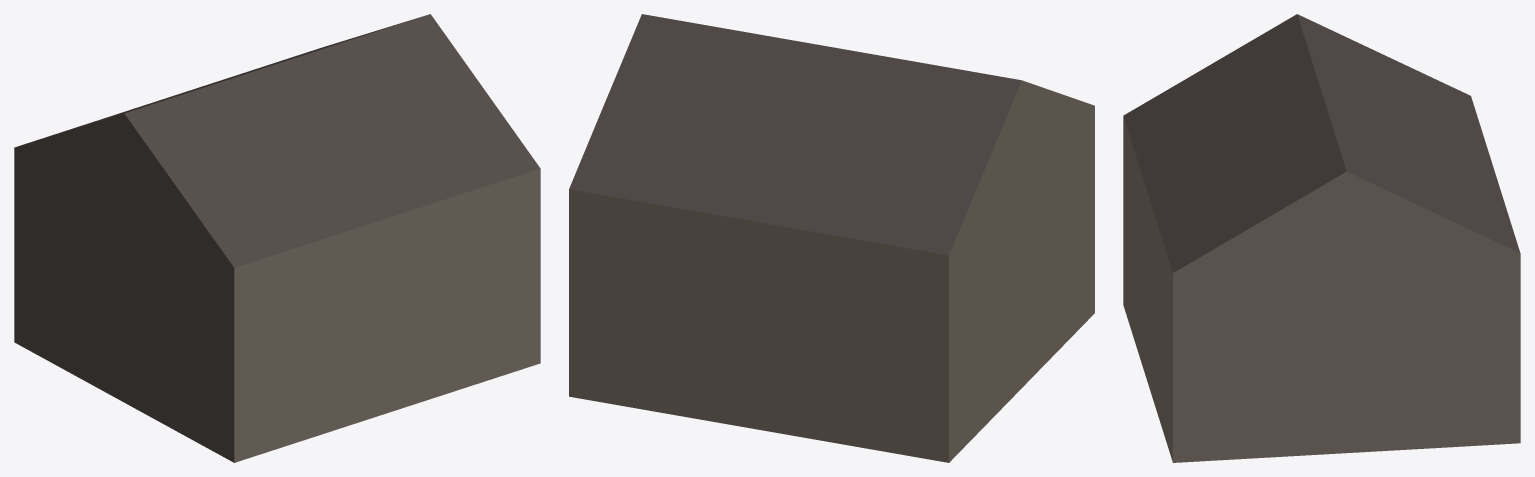
3 views of the same model, side by side, from view 1: azimuth 30°, elevation 25°; view 2: azimuth 150°, elevation 25°; view 3: azimuth 270°, elevation 25° (orthographic). The views are drawn at different scales.
Visible parts, largest first — view 1: HP-w1376988720; view 2: HP-w1376988720; view 3: HP-w1376988720.
Boxes of the visible parts, <box> form: HP-w1376988720: <box>14,14,540,462</box>; HP-w1376988720: <box>569,14,1094,462</box>; HP-w1376988720: <box>1123,14,1520,462</box>.
Bounding box in the file's own units: 12.02 × 8.9 × 11.38.
